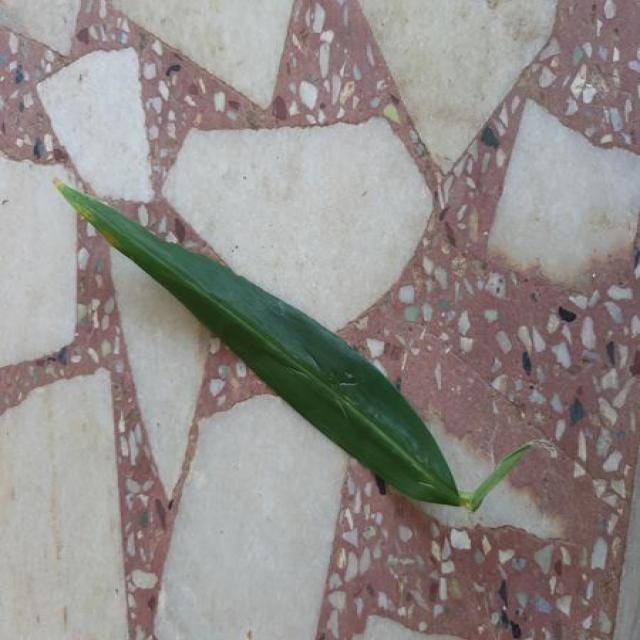ginger: (58, 182, 530, 511)
